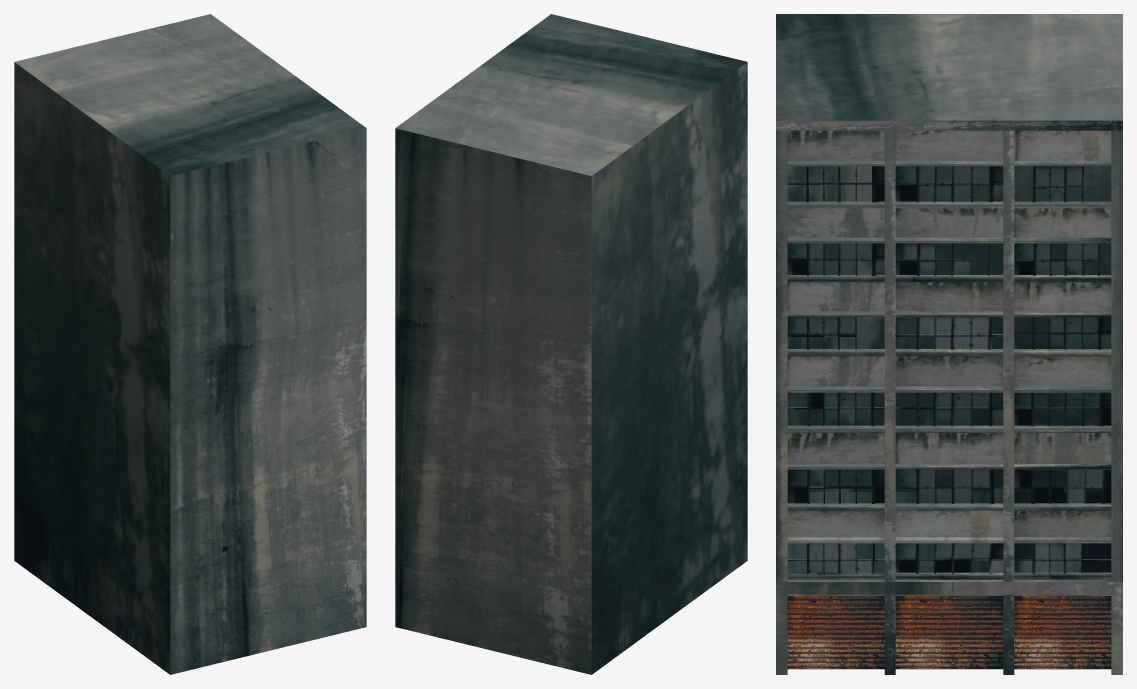
File: abandoned_building.glb
The picture shows the model from 3 angles, left to right: view 1: azimuth 30°, elevation 25°; view 2: azimuth 150°, elevation 25°; view 3: azimuth 270°, elevation 25°; orthographic projection. The views are drawn at different scales.
Parts seen in each view (by area): view 1: Cube; view 2: Cube; view 3: Cube, 2_Door1_0, 1_Door1_0, 3_Door1_0.
Part boxes in pixels (x1=…): Cube: x1=14, y1=14, x2=366, y2=674; Cube: x1=395, y1=14, x2=747, y2=674; Cube: x1=776, y1=14, x2=1122, y2=674; 2_Door1_0: x1=895, y1=596, x2=1003, y2=668; 1_Door1_0: x1=787, y1=596, x2=884, y2=668; 3_Door1_0: x1=1014, y1=596, x2=1111, y2=668.
Bounding box in the file's own units: 3.49 × 8.46 × 4.8.
Materials: 2 (2 with a texture image).
